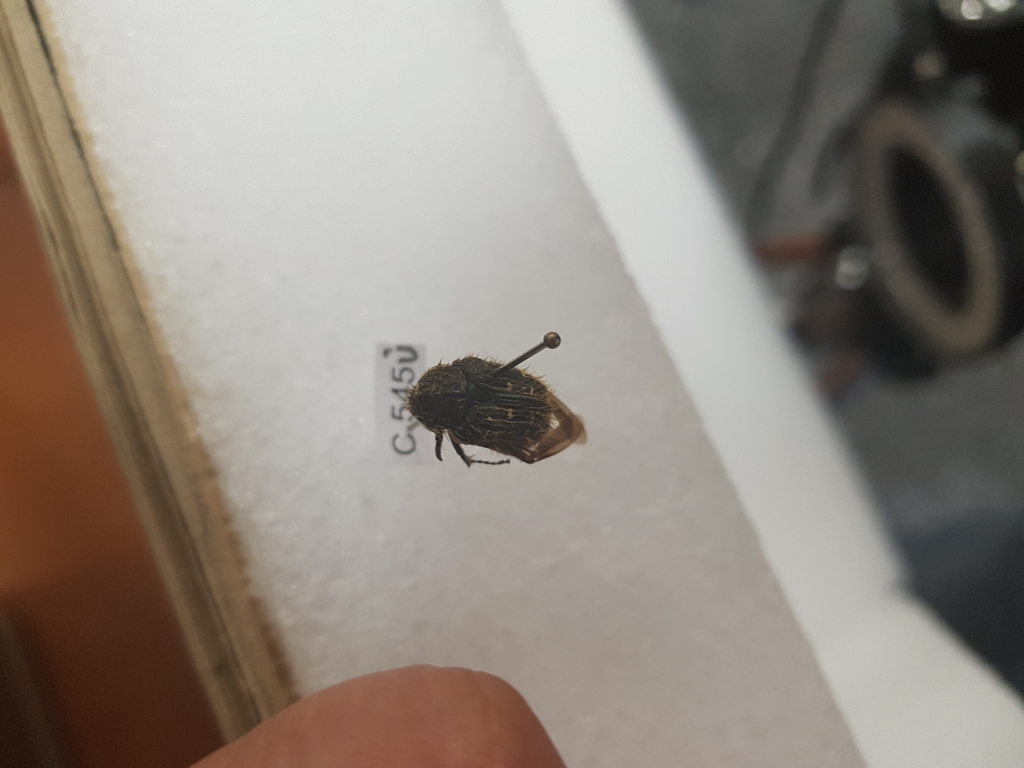Tropinota_hirta: (404, 348, 605, 471)
